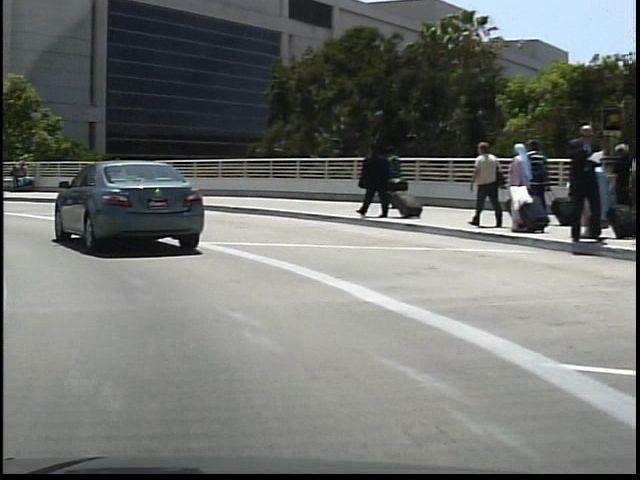person: (557, 120, 600, 244), (461, 136, 501, 230), (351, 140, 388, 220), (380, 146, 402, 211)
